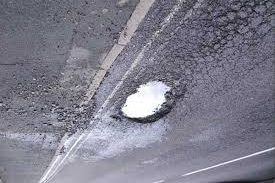pothole: (113, 75, 188, 125)
